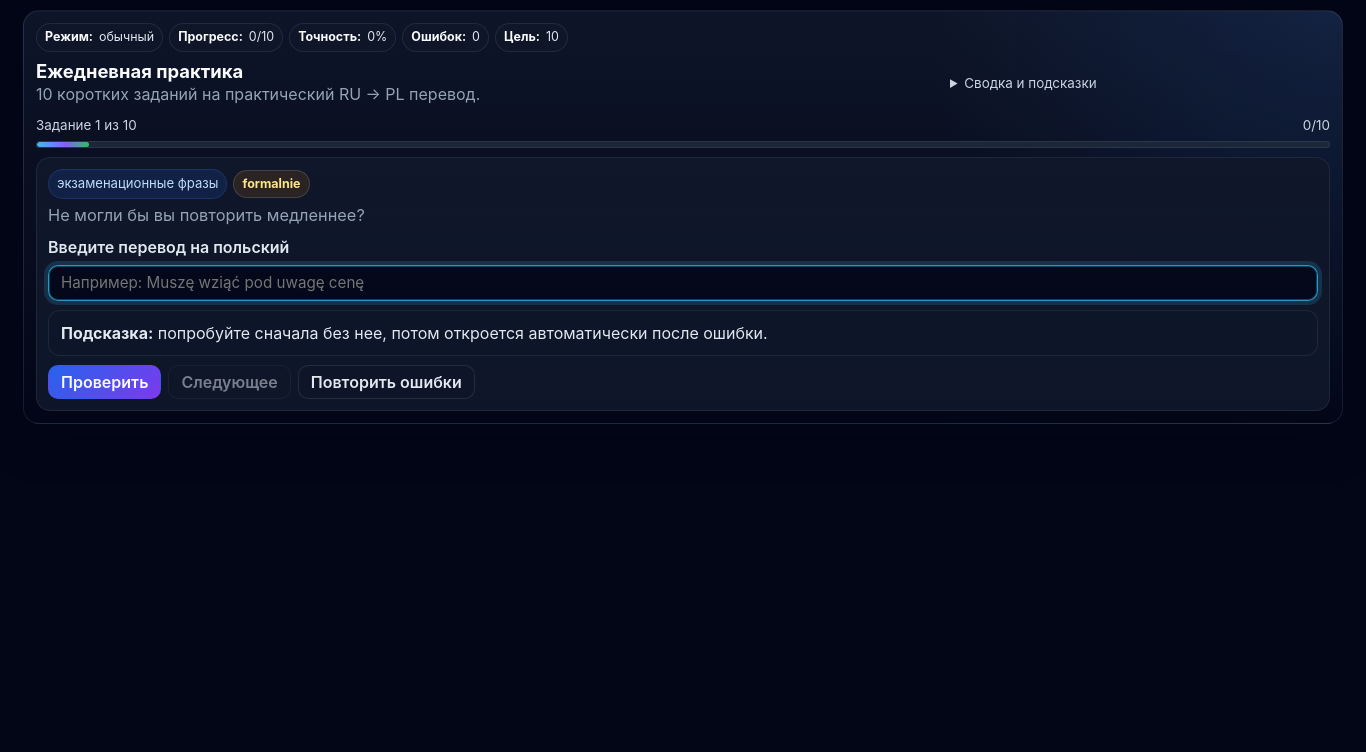
TrainerScreen retry-after-error UX › allows correcting a wrong answer and checking again without using "Повторить ошибки"
This screenshot has width=1366, height=752.
Type "неверный ответ" into the field labelled "Введите перевод на польский" at (683, 283), box [48,265,1318,301]
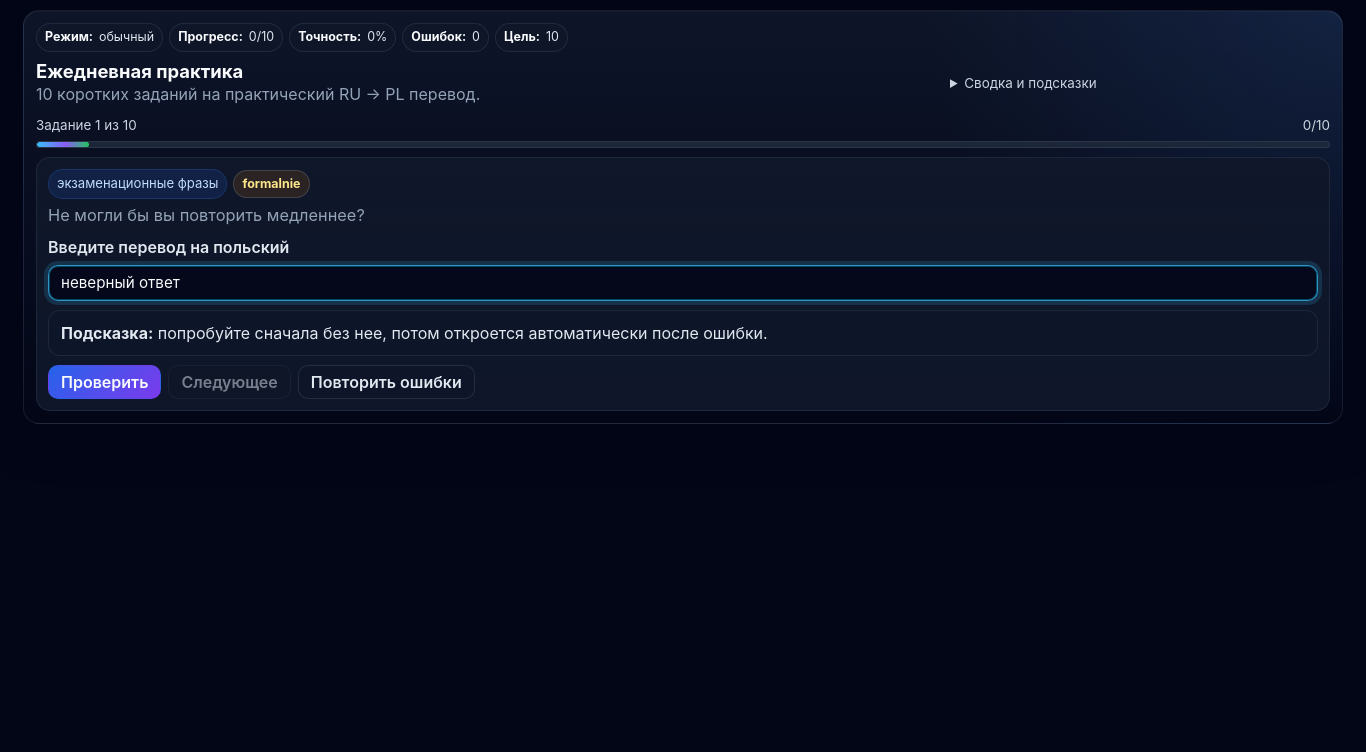
Click the button "Проверить" at (105, 382), box [48,365,161,399]
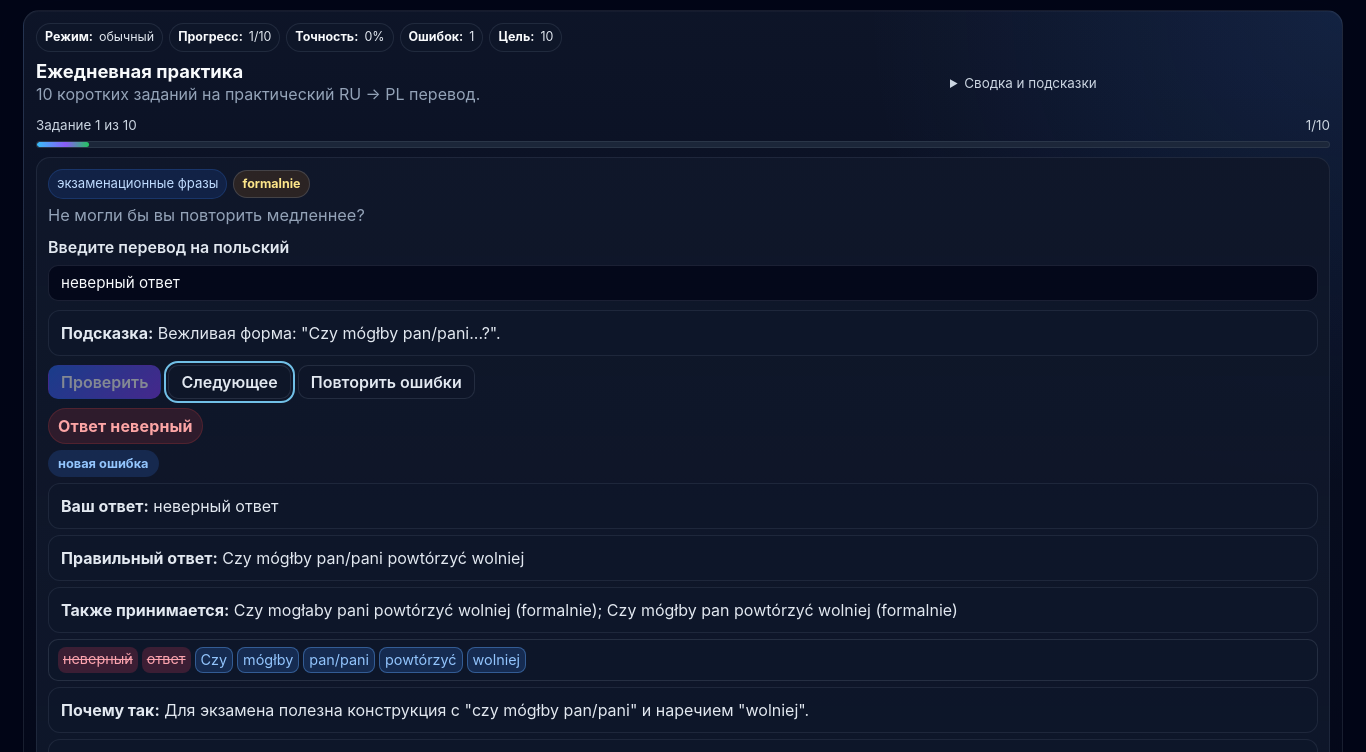
Check: the text "Ответ неверный" is shown, box [48,408,203,444]
Check: the text "новая ошибка" is shown, box [48,450,158,477]
Check: the text "Ваш ответ:" is shown, box [61,496,149,516]
Replace the text in the field labelled "Введите перевод на польский" with "Czy mógłby pan/pani powtórzyć wolniej" at (683, 283), box [48,265,1318,301]
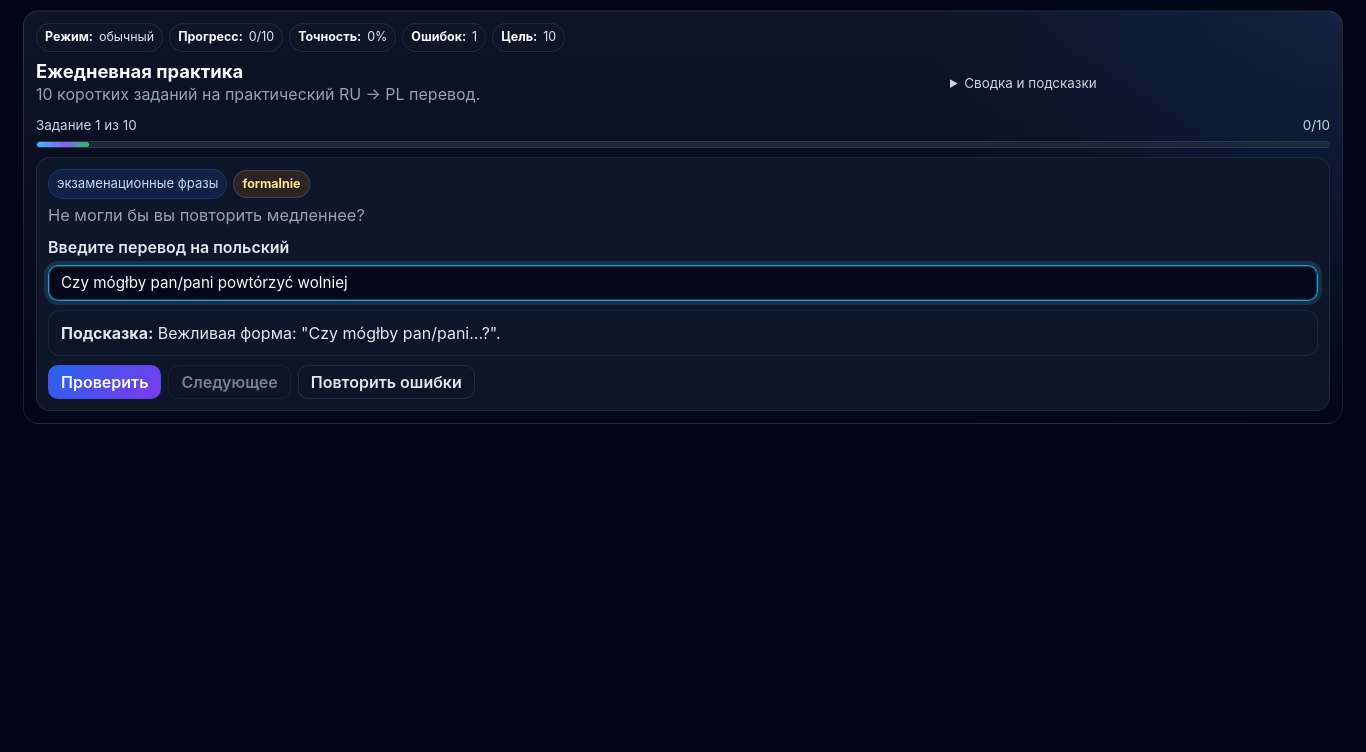
Check: the text "Ответ неверный" is not shown
Check: the button "Проверить" is enabled
Click the button "Проверить" at (105, 382), box [48,365,161,399]
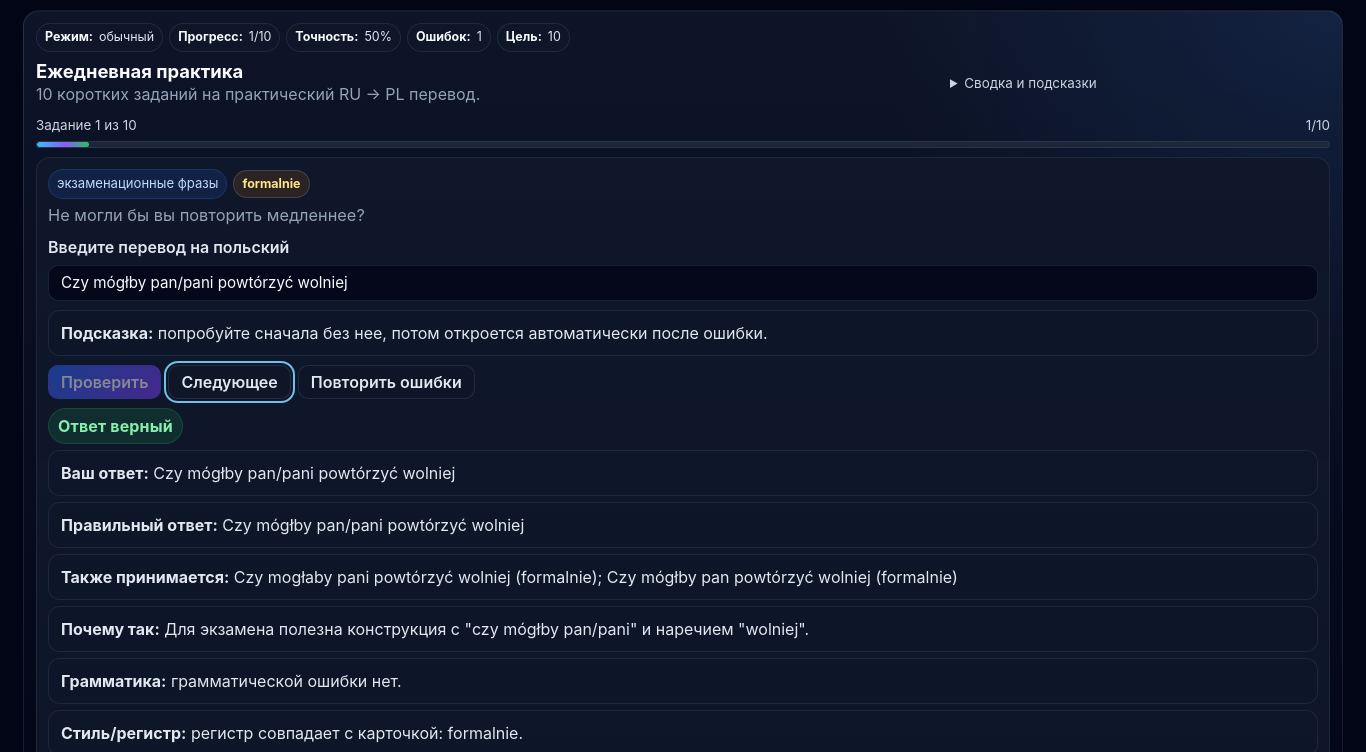
Check: the text "Ответ неверный" is not shown
Check: the text "Ответ верный" is shown, box [48,408,183,444]
